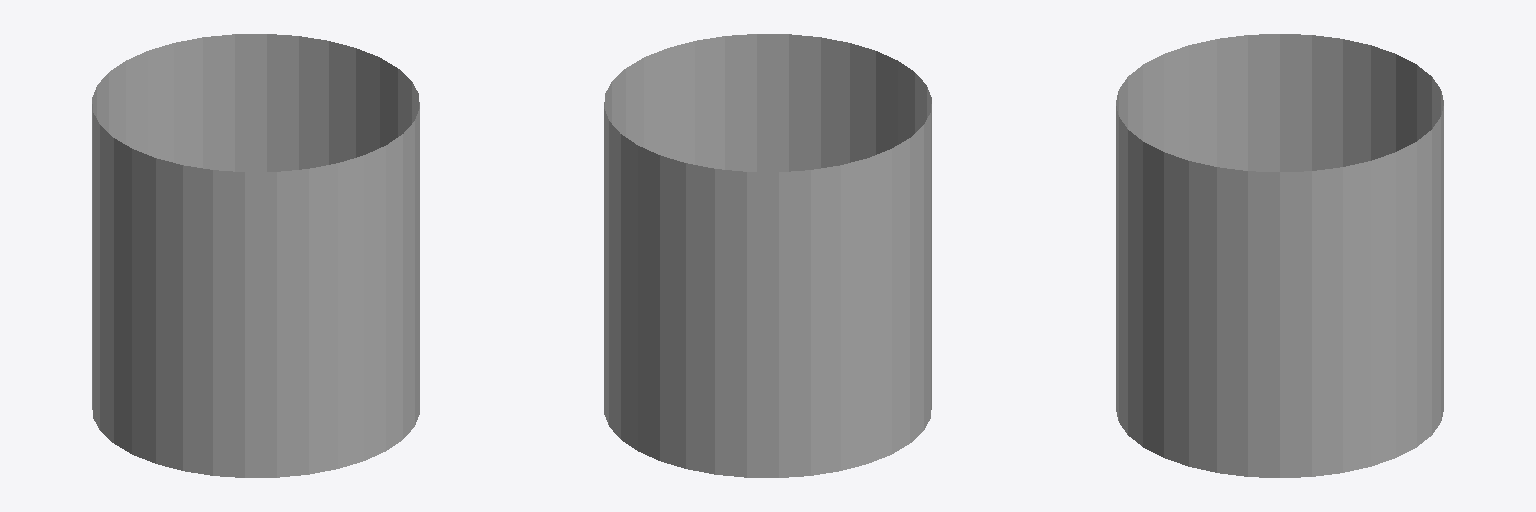
Rendered from pot.obj.
The picture shows the model from 3 angles: view 1: azimuth 30°, elevation 25°; view 2: azimuth 150°, elevation 25°; view 3: azimuth 270°, elevation 25°; orthographic projection.
Parts seen in each view (by area): view 1: Cube; view 2: Cube; view 3: Cube.
Part boxes in pixels (bbox=[...]): Cube: bbox=[92, 34, 419, 477]; Cube: bbox=[604, 34, 931, 477]; Cube: bbox=[1116, 34, 1443, 477].
Bounding box in the file's own units: 2 × 2.05 × 2.